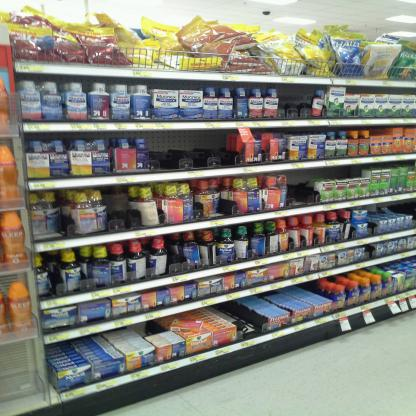Void: (152, 134, 232, 167), (105, 191, 134, 229), (281, 86, 316, 116), (287, 175, 314, 200)
